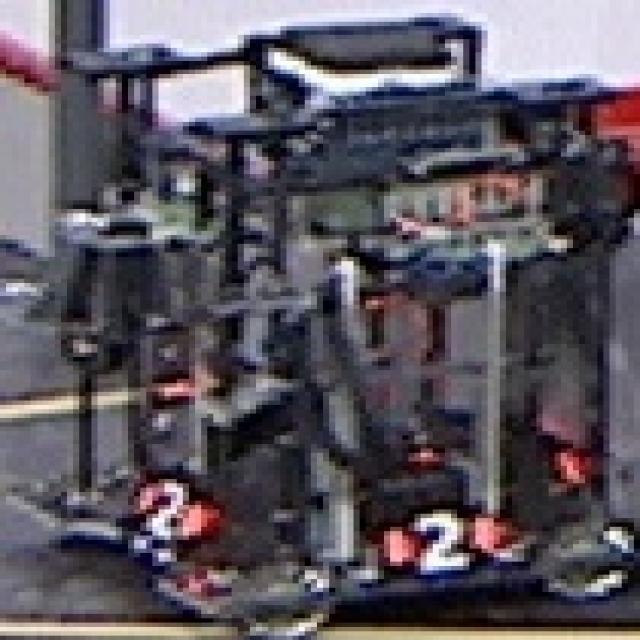R2: (384, 505, 500, 575), (134, 475, 207, 544)
